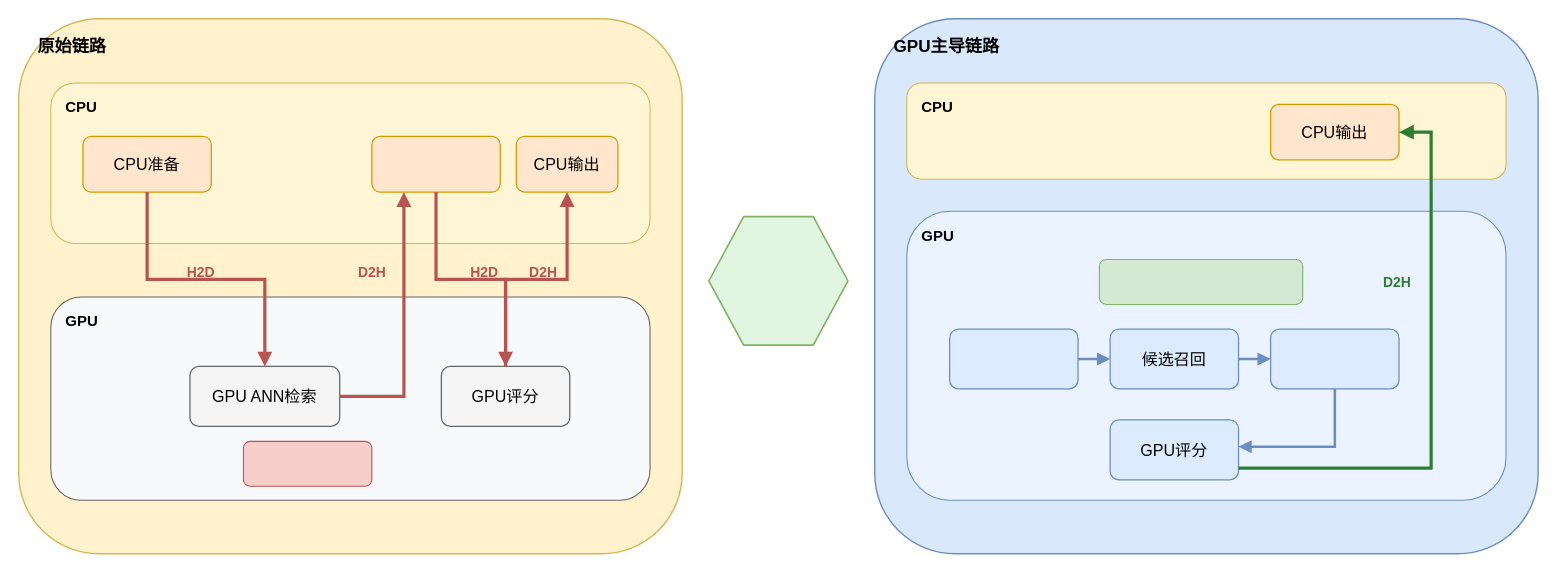
This 1558x574 diagram has some shape labels left out. The centre of each missing label's shape, as x and y in pixels:
CPU重组: the point at 435,163
仅保留最终结果回CPU: the point at 1200,281
多次跨设备往返: the point at 307,463
张量化组织: the point at 1334,358
查询组织: the point at 1013,358
省略多次 H2D/D2H 往返 与阶段同步开销: the point at 778,280
